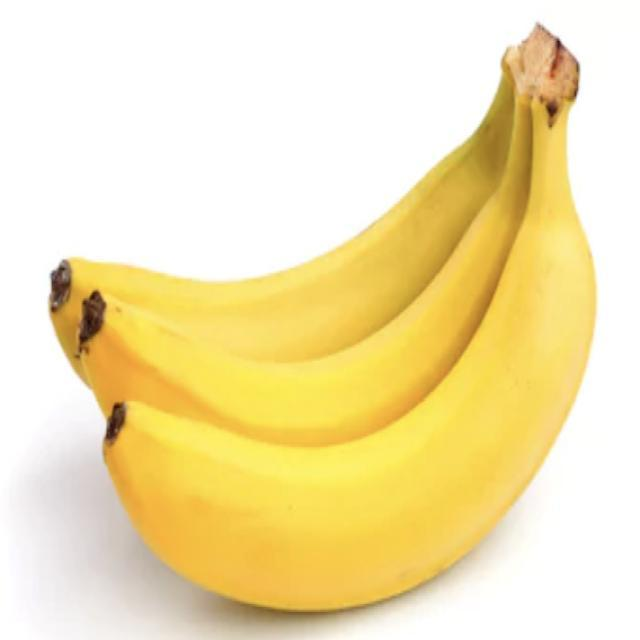Banana: (47, 21, 597, 614)
